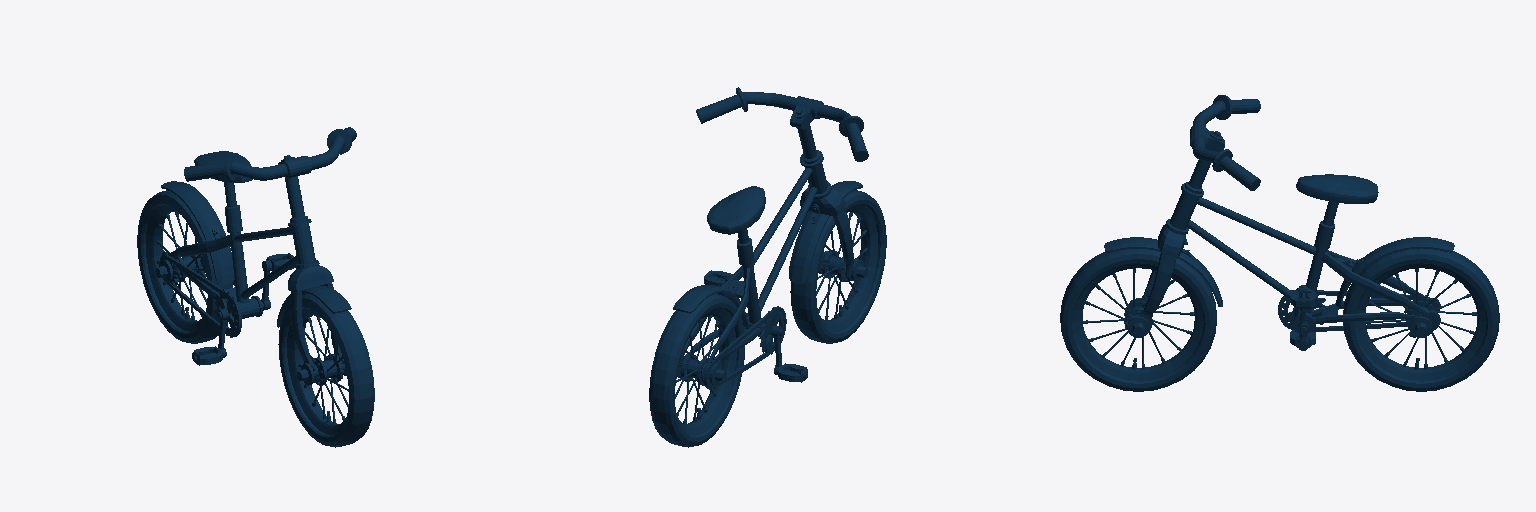
The model's file is bicycle2_002.obj.
The picture shows the model from 3 angles: view 1: azimuth 30°, elevation 25°; view 2: azimuth 150°, elevation 25°; view 3: azimuth 270°, elevation 25°; orthographic projection.
Parts seen in each view (by area): view 1: bicycle_01; view 2: bicycle_01; view 3: bicycle_01.
Boxes of the visible parts, x1=… form: bicycle_01: x1=137, y1=127, x2=374, y2=447; bicycle_01: x1=649, y1=87, x2=886, y2=447; bicycle_01: x1=1060, y1=95, x2=1499, y2=391.
Bounding box in the file's own units: 26.09 × 38.63 × 57.77.